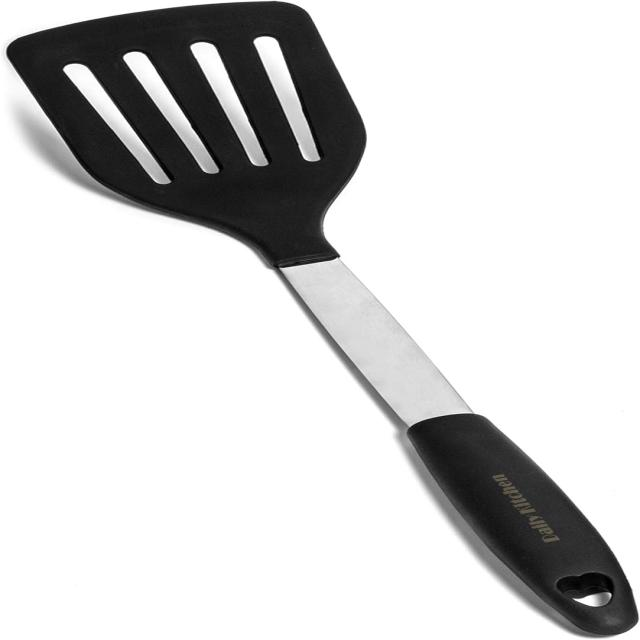Spatula: (0, 0, 640, 636)
